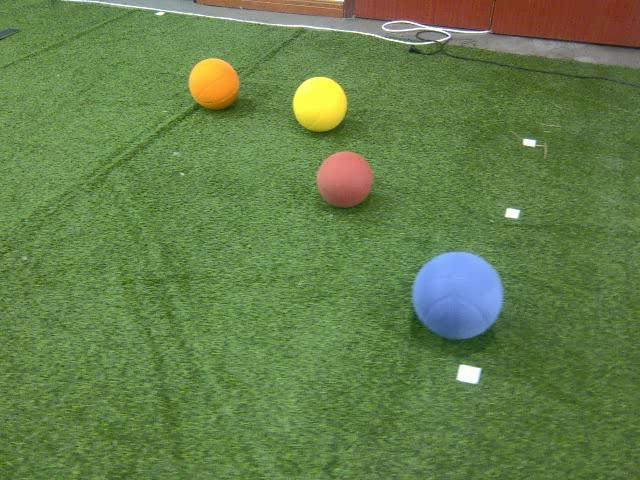blue_ball: (411, 251, 505, 339)
orange_ball: (188, 57, 240, 110)
red_ball: (315, 150, 374, 208)
yellow_ball: (292, 76, 347, 132)
